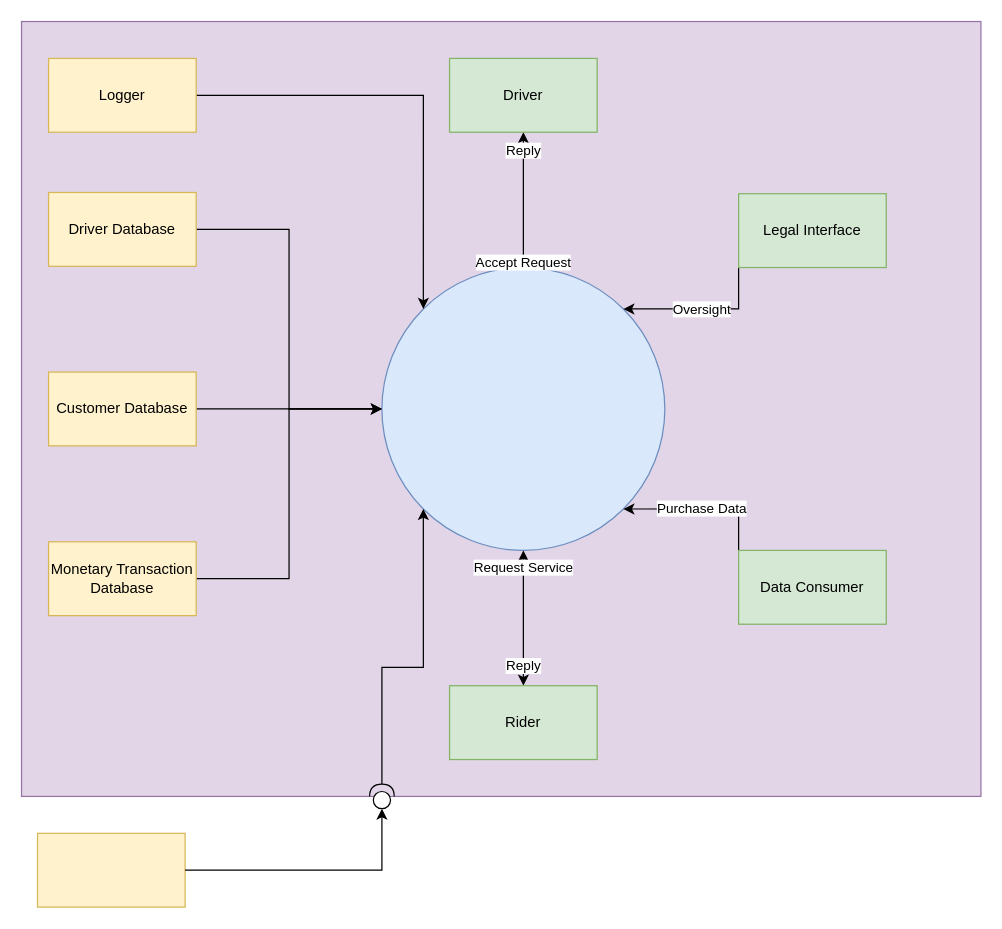
The diagram is 1002 pixels wide and 929 high, and some of its shapes have lost their labels. Here are the shapes that lost their labels. From the top down, the centre of each, then its label:
At pixel 523 408: "M.O.T.U.S.".
At pixel 110 869: "Payment System".
